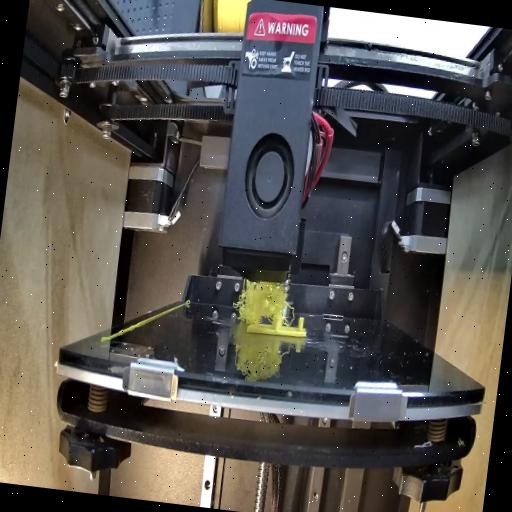spaghetti: (236, 274, 302, 330)
